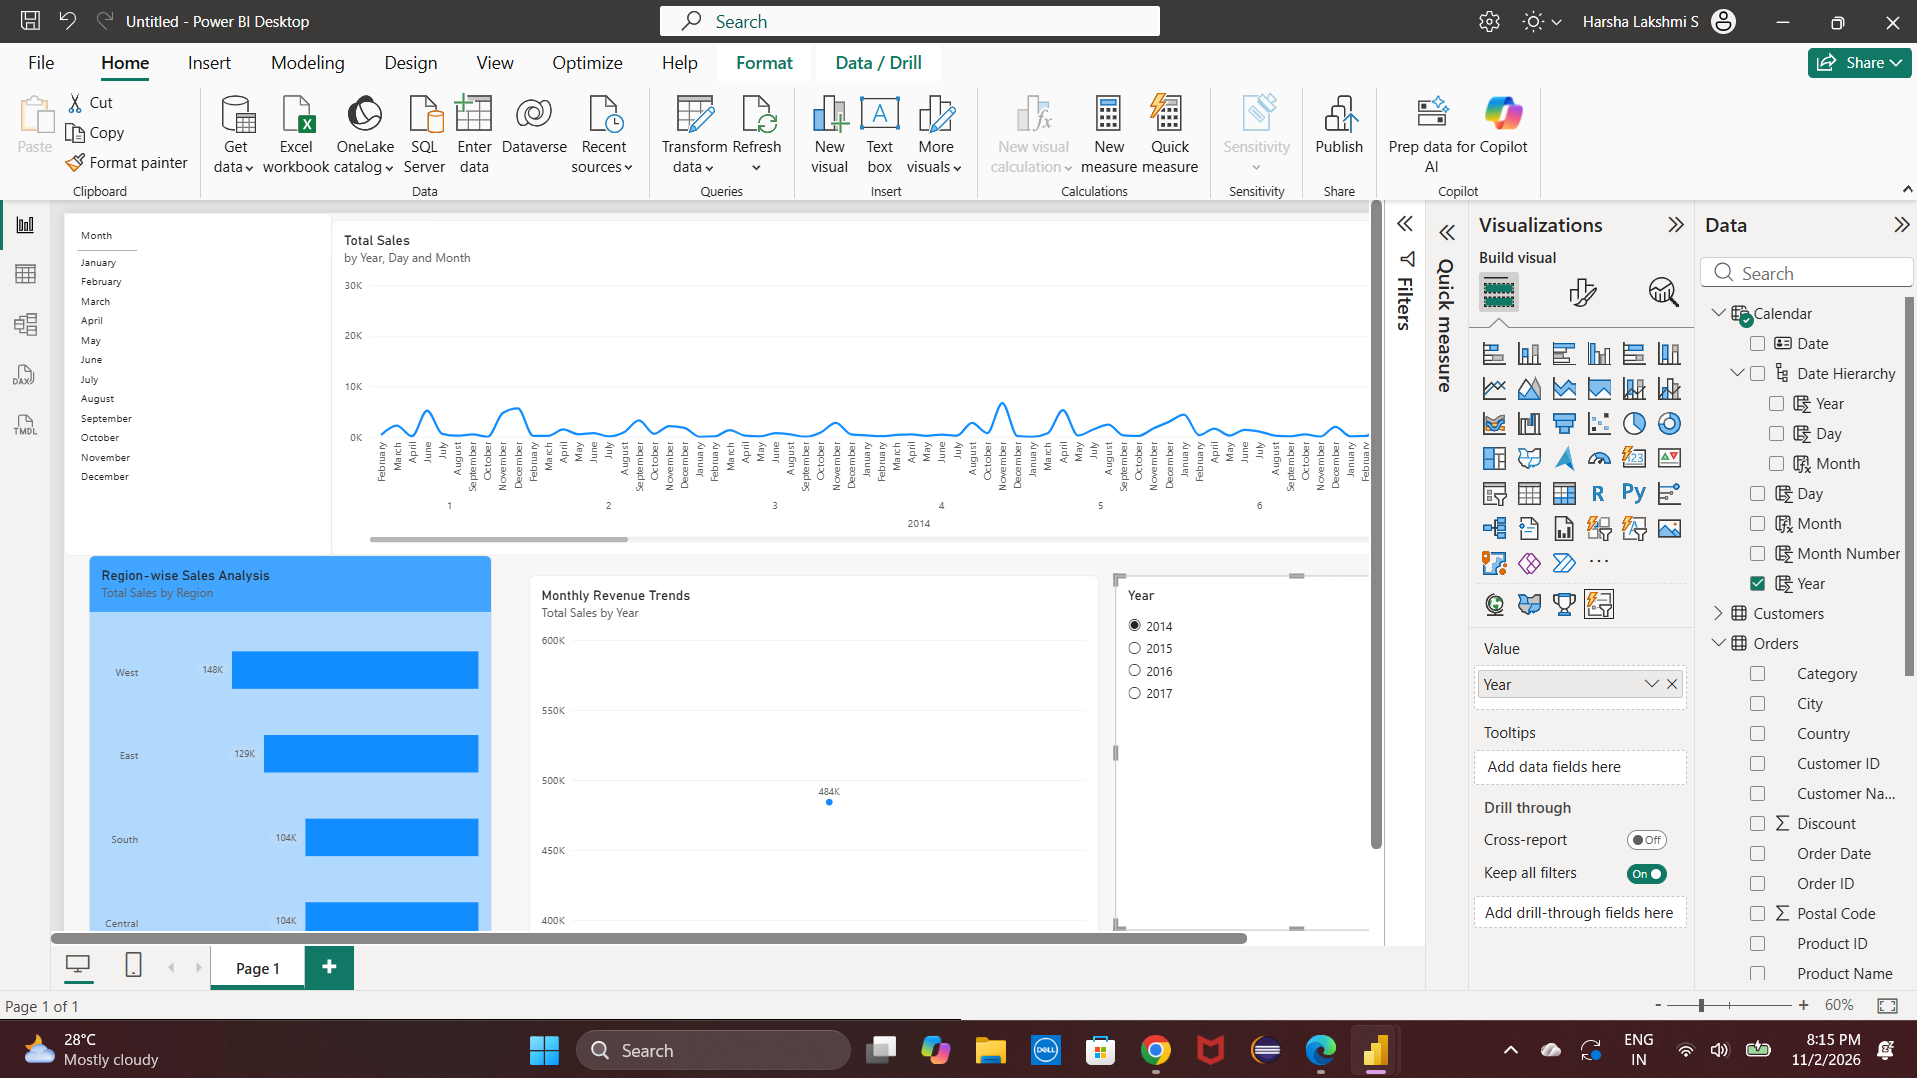

This screenshot's page, from the dashboard's own definition file:
{"tool":"powerbi","page":{"name":"Page 1","canvas":[1920,1080],"ordinal":0},"visuals":[{"type":"tableEx","fields":{"Values":["Calendar.Month"]},"box":[0,0,356.7,456.7],"z":0},{"type":"clusteredBarChart","title":"Region-wise Sales Analysis","fields":{"Category":["Regions.Region"],"Y":["Orders.Measure"]},"box":[33.3,456.7,536.7,580],"z":1},{"type":"lineChart","fields":{"Category":["Calendar.Date Hierarchy.Year","Calendar.Date Hierarchy.Day","Calendar.Date Hierarchy.Month"],"Y":["Orders.Measure"]},"box":[356.7,10,1533.3,446.7],"z":2},{"type":"lineChart","title":"Monthly Revenue Trends","fields":{"Category":["Calendar.Date Hierarchy.Year","Calendar.Date Hierarchy.Day","Calendar.Date Hierarchy.Month"],"Y":["Orders.Total Sales"]},"box":[620,483.3,760,553.3],"z":3},{"type":"listSlicer","fields":{"Values":["Calendar.Year"]},"box":[1391.7,483.3,485,473.3],"z":4}]}

Visuals, with their boxes in screenshot pixels (x1, y1, x2, y2):
tableEx - Calendar.Month: BBox(55, 30, 394, 464)
"Region-wise Sales Analysis" clusteredBarChart: BBox(87, 464, 596, 1015)
lineChart - Calendar.Date Hierarchy.Year x Calendar.Date Hierarchy.Day: BBox(394, 39, 1850, 464)
"Monthly Revenue Trends" lineChart: BBox(644, 489, 1366, 1014)
listSlicer - Calendar.Year: BBox(1377, 489, 1837, 938)
